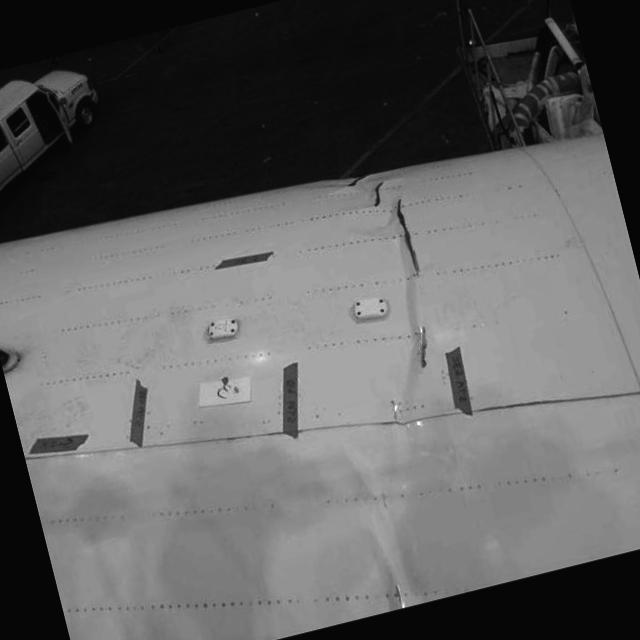crack: (390, 194, 426, 281), (404, 322, 438, 373), (364, 178, 390, 212)
